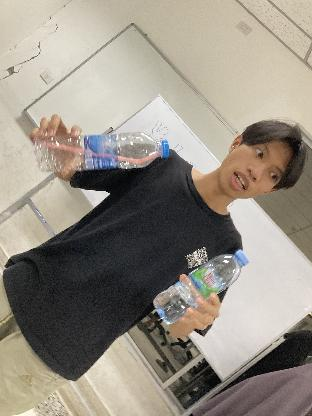Plastic Bottle: (153, 249, 249, 325), (33, 130, 169, 170)
